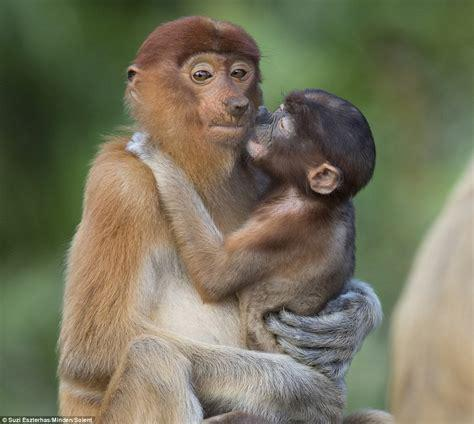monkey: (61, 24, 379, 424), (99, 92, 374, 424)
